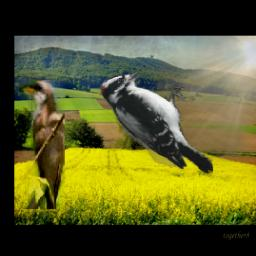Cuckoo: (19, 81, 65, 210)
Woodpecker: (101, 71, 214, 173)
